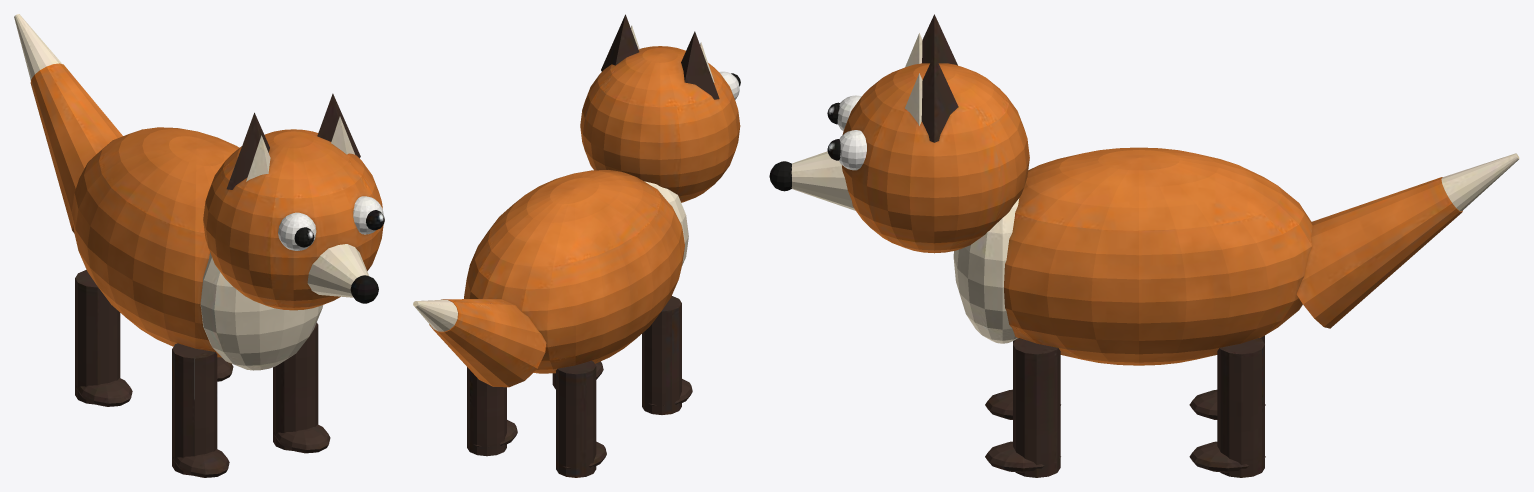
The model's file is makhluk.glb.
3 renders of one model, left to right at view 1: azimuth 30°, elevation 25°; view 2: azimuth 150°, elevation 25°; view 3: azimuth 270°, elevation 25°, orthographic. The views are drawn at different scales.
Parts seen in each view (by area): view 1: asset; view 2: asset; view 3: asset.
Boxes of the visible parts, x1,y1,x2,y2 form: asset: (14,14,384,477); asset: (413,14,740,477); asset: (769,14,1519,477).
Bounding box in the file's own units: 0.32 × 0.66 × 1.1.
1 material, 1 textured.
